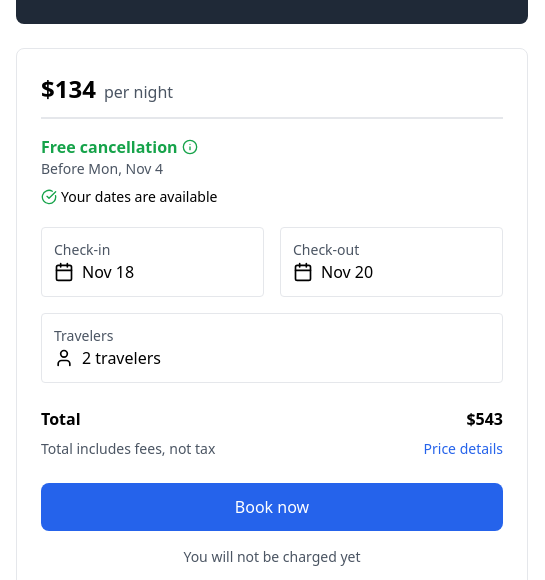
Scenario: BookingCard › Travelers Popup Functionality › opens travelers popup when clicked
This screenshot has width=545, height=580.
Click the element with test id "travelers-button": (272, 348) [41,313,503,383]
(page scrolled)
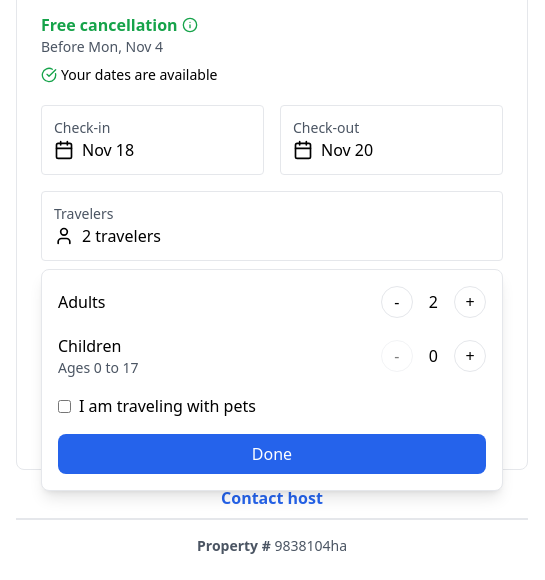
Expected: the text "Ages 0 to 17" is shown, [58,358,139,378]
Expected: the button "Done" is shown, [58,434,486,474]
